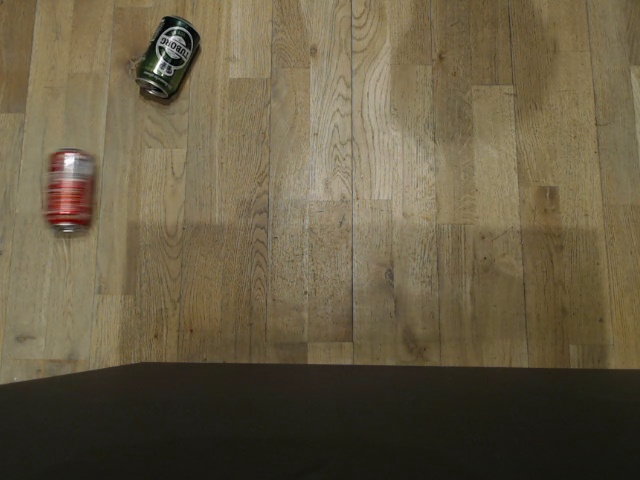beer: (131, 11, 204, 102)
cola: (43, 146, 97, 233)
